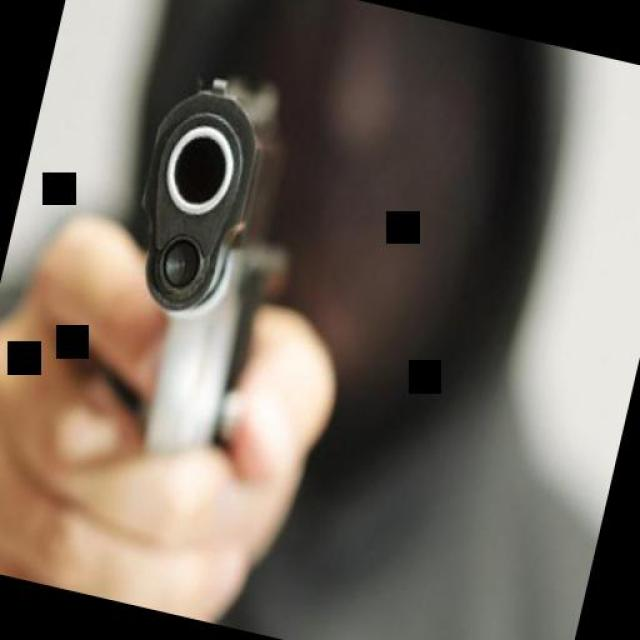gun: (78, 46, 336, 478)
